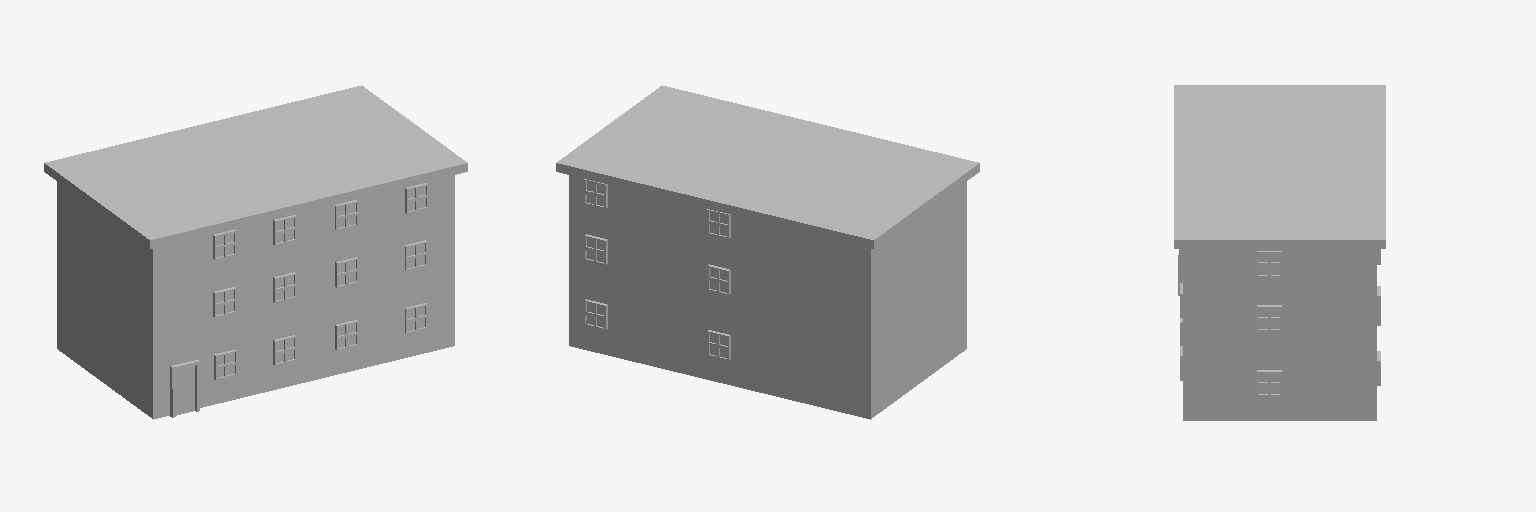
File: building_1.obj
3 views of the same model, side by side, from view 1: azimuth 30°, elevation 25°; view 2: azimuth 150°, elevation 25°; view 3: azimuth 270°, elevation 25° (orthographic).
Parts seen in each view (by area): view 1: building_1; view 2: building_1; view 3: building_1.
Part boxes in pixels (left/top/right/bottom): building_1: left=44, top=85, right=467, bottom=419; building_1: left=556, top=85, right=979, bottom=419; building_1: left=1174, top=85, right=1385, bottom=420.
Bounding box in the file's own units: 18.95 × 10.61 × 10.95.